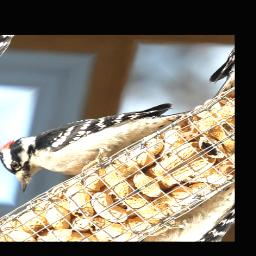Woodpecker: (0, 64, 194, 207)
